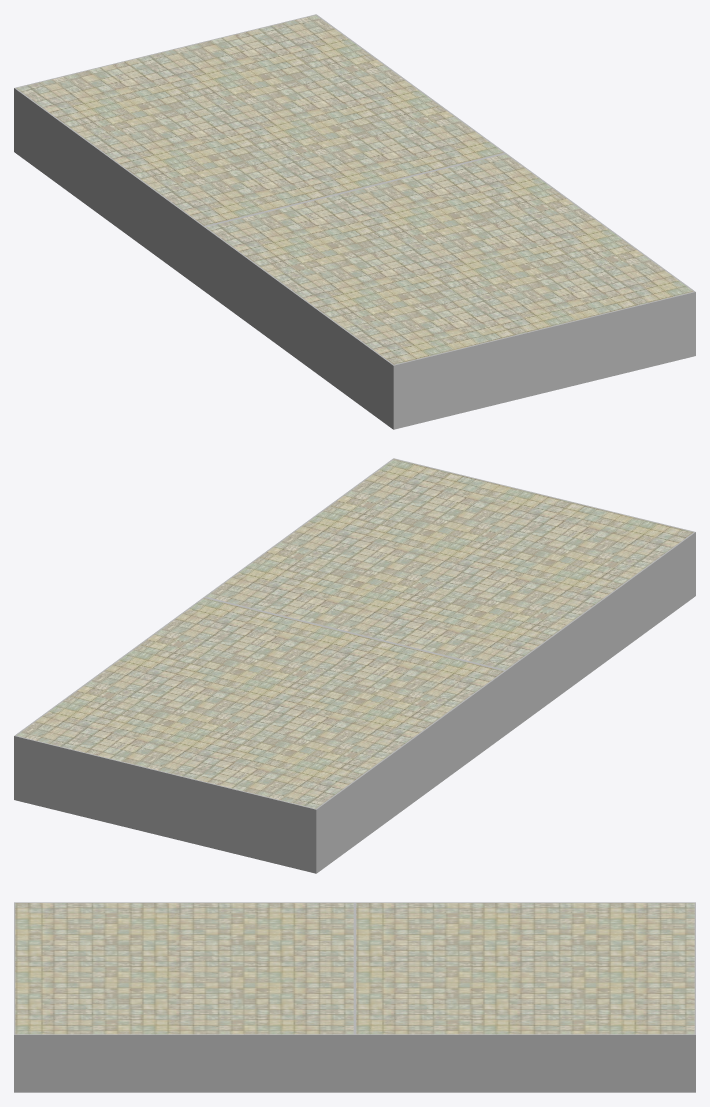
Rendered from road_w01a_inx2.fbx.
The picture shows the model from 3 angles, top to bottom: view 1: azimuth 30°, elevation 25°; view 2: azimuth 150°, elevation 25°; view 3: azimuth 270°, elevation 25°; orthographic projection. The views are drawn at different scales.
Parts seen in each view (by area): view 1: road_w01a_inx2; view 2: road_w01a_inx2; view 3: road_w01a_inx2.
Part boxes in pixels (x1,y1,x2,y2): road_w01a_inx2: [14, 14, 695, 429]; road_w01a_inx2: [14, 458, 695, 873]; road_w01a_inx2: [14, 902, 695, 1092].
Bounding box in the file's own units: 11.04 × 2.24 × 24.
